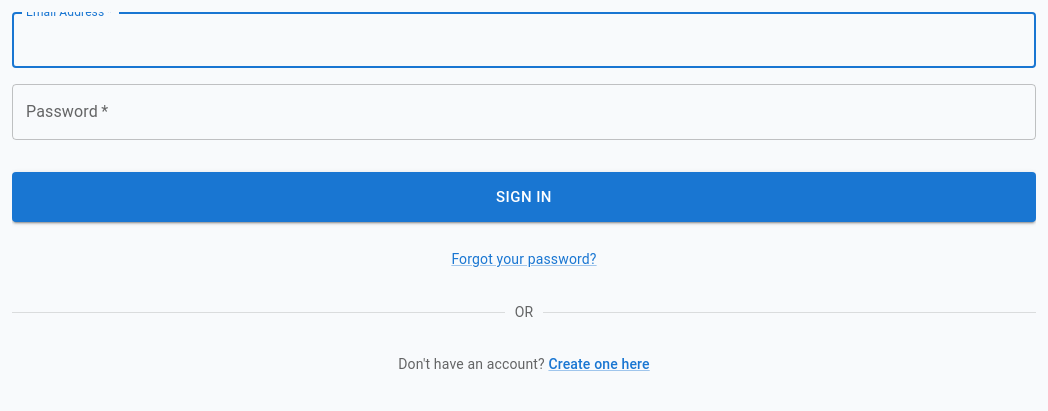
Test: LoginForm › validates email format
The width and height of the screenshot is (1048, 411).
Type "invalid-email" into the field labelled "Email Address *" at (524, 40), box top-left (12, 12), bottom-right (1036, 68)
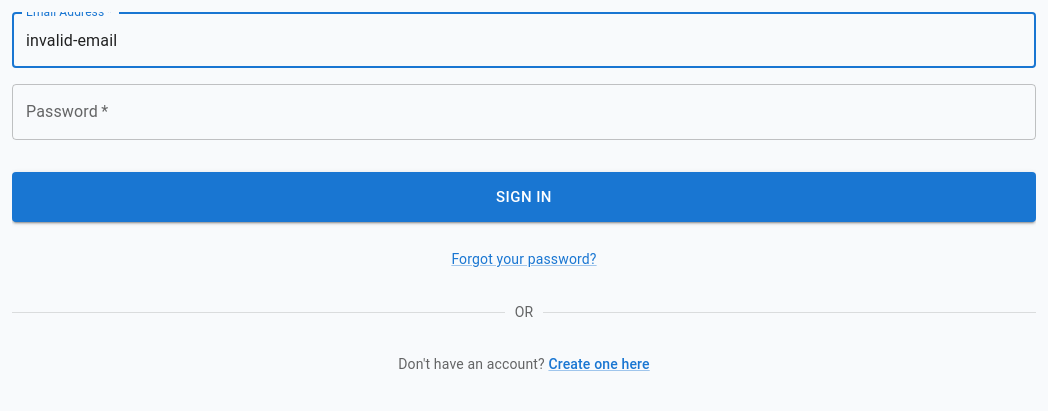
Press Tab
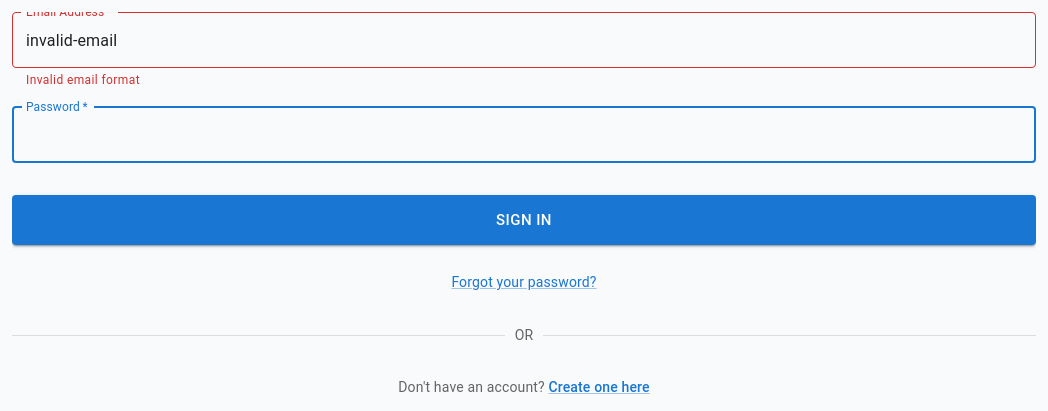
Expected: the text "Invalid email format" is shown, top-left (26, 73), bottom-right (140, 87)
